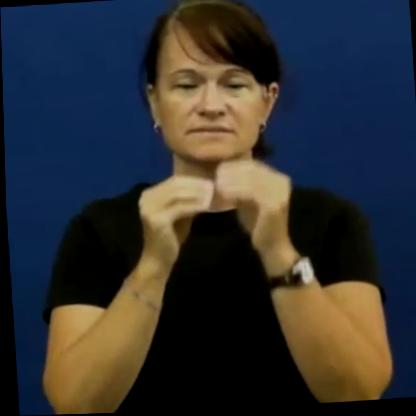Fix: (113, 134, 308, 297)
